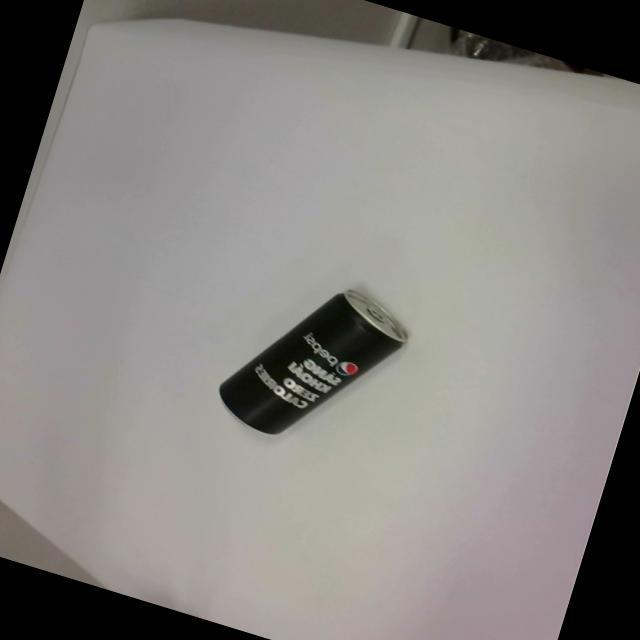debris: (208, 258, 418, 466)
